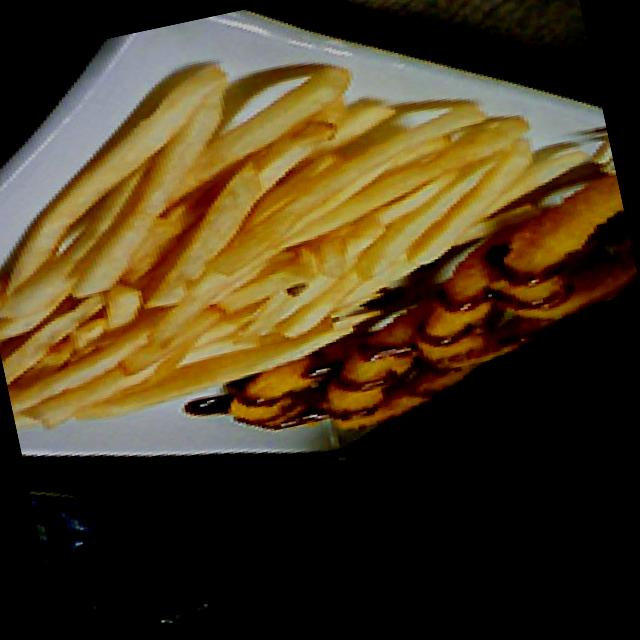French Fries: (0, 42, 465, 440)
